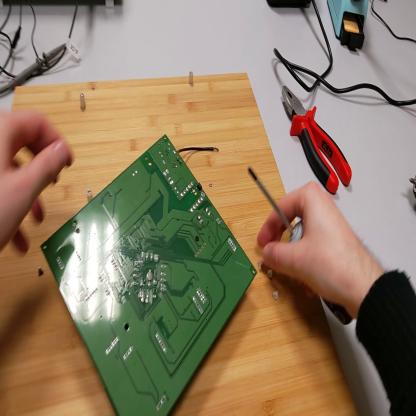hand: (255, 179, 368, 318), (2, 92, 75, 261)
low voltage board: (42, 135, 256, 416)
oscilloscope probe tip: (2, 45, 67, 95)
pliers: (280, 89, 353, 194)
screwdriver-: (249, 170, 355, 326)
welder base: (328, 1, 371, 56)
welder station: (268, 2, 312, 9)
working area: (1, 75, 358, 416)
